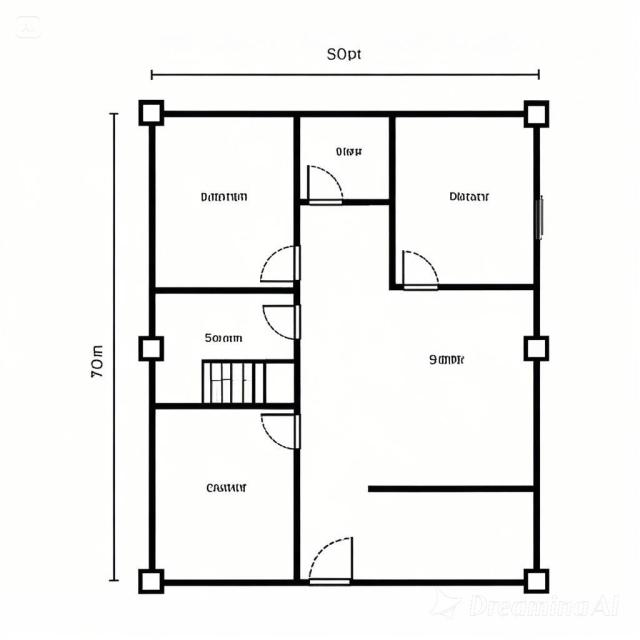column: (516, 93, 556, 136), (130, 95, 170, 132), (518, 331, 554, 371), (518, 566, 554, 597), (135, 333, 166, 364), (136, 567, 167, 597)
